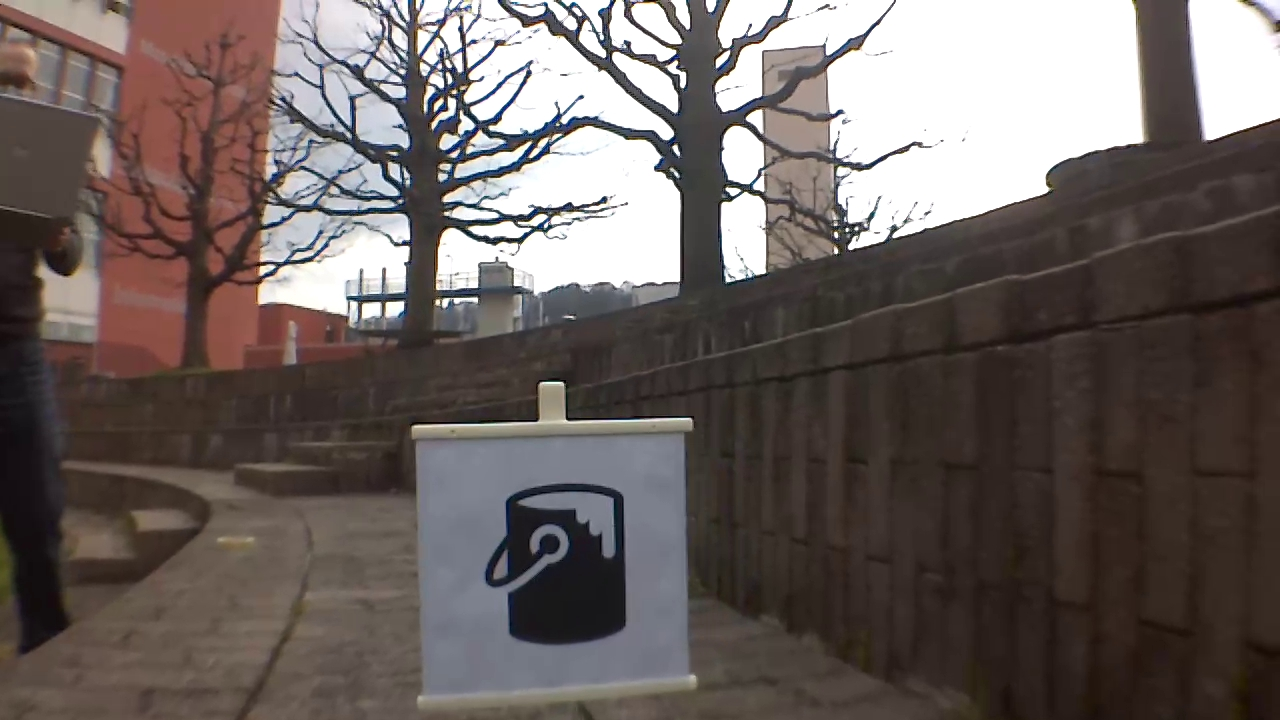bucket: (486, 482, 623, 651)
